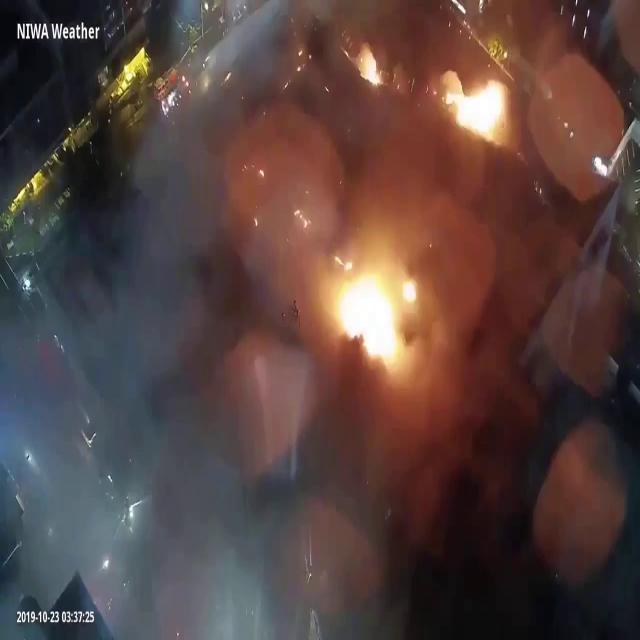Fire: (334, 273, 416, 368), (444, 79, 506, 145), (356, 44, 384, 86), (334, 254, 354, 271), (294, 209, 310, 227)
